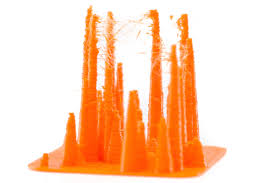3dpstringing: (114, 14, 153, 63), (95, 14, 110, 92), (161, 40, 172, 106), (175, 17, 185, 67)
